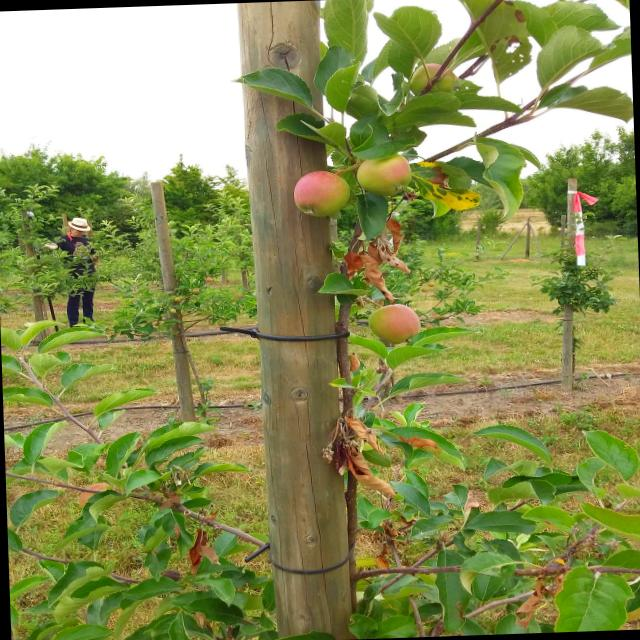-FireBlight-: (321, 212, 410, 286), (332, 406, 404, 496)
